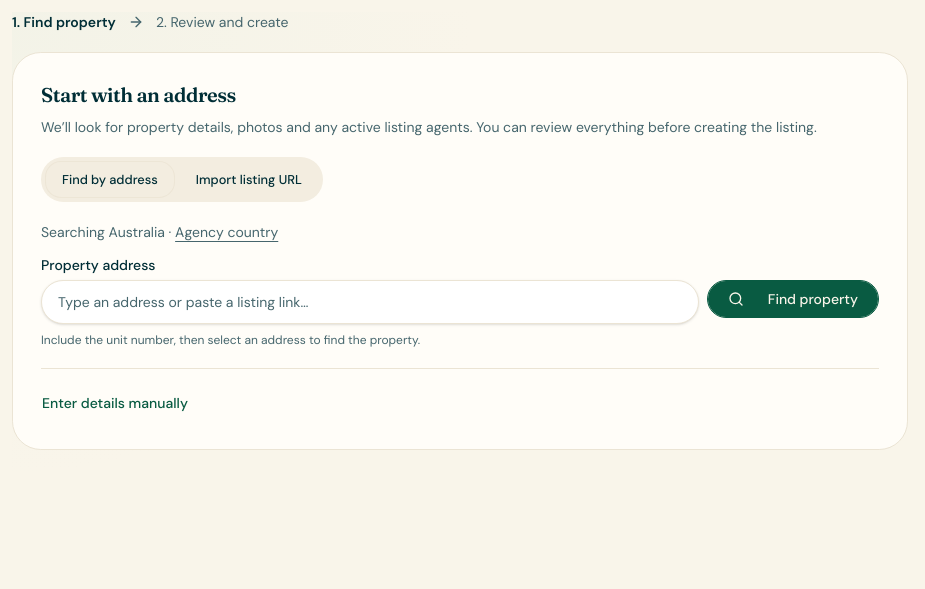
Test: automatically looks up the completed unit/range address after choosing a suggestion
Type "21/8-12 ascot st" into the dropdown labelled "Property address". click: (370, 302)
box: [41,280,699,324]
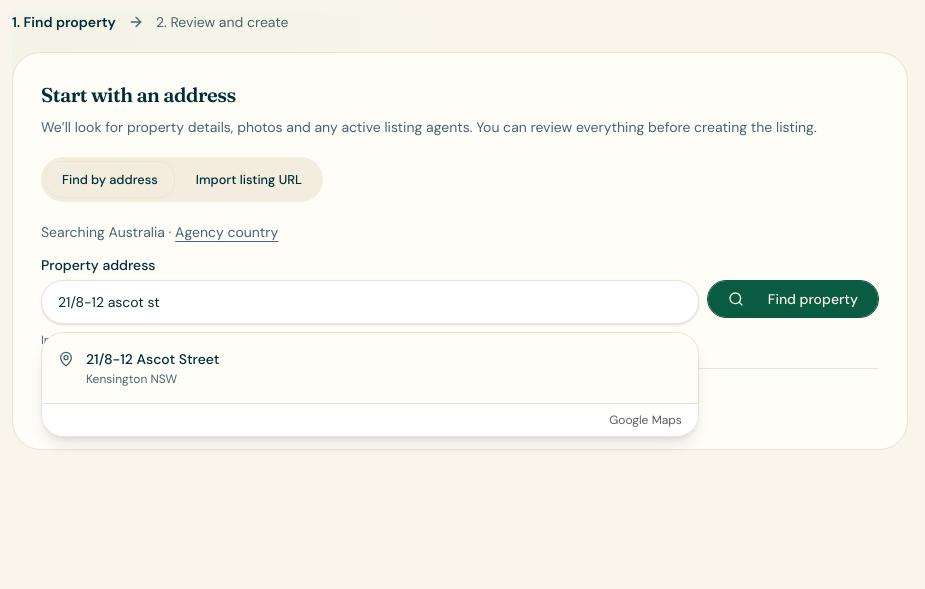
Click the option "21/8-12 Ascot Street Kensington NSW". click: (139, 369)
box: [58,350,219,387]
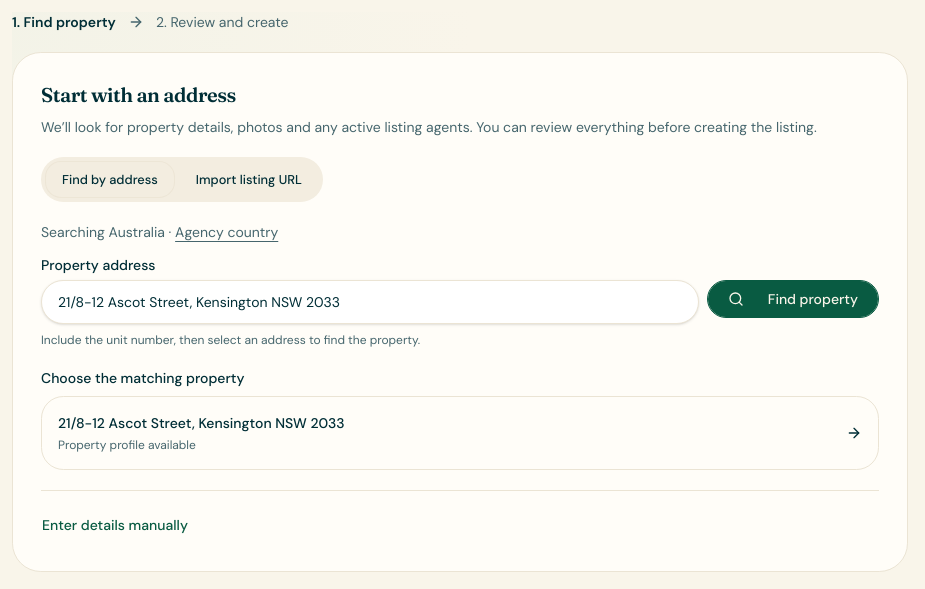
Result: the 4th button is shown at [41,396,879,470]
Result: the dropdown labelled "Property address" holds "21/8-12 Ascot Street, Kensington NSW 2033" at [41,280,699,324]
